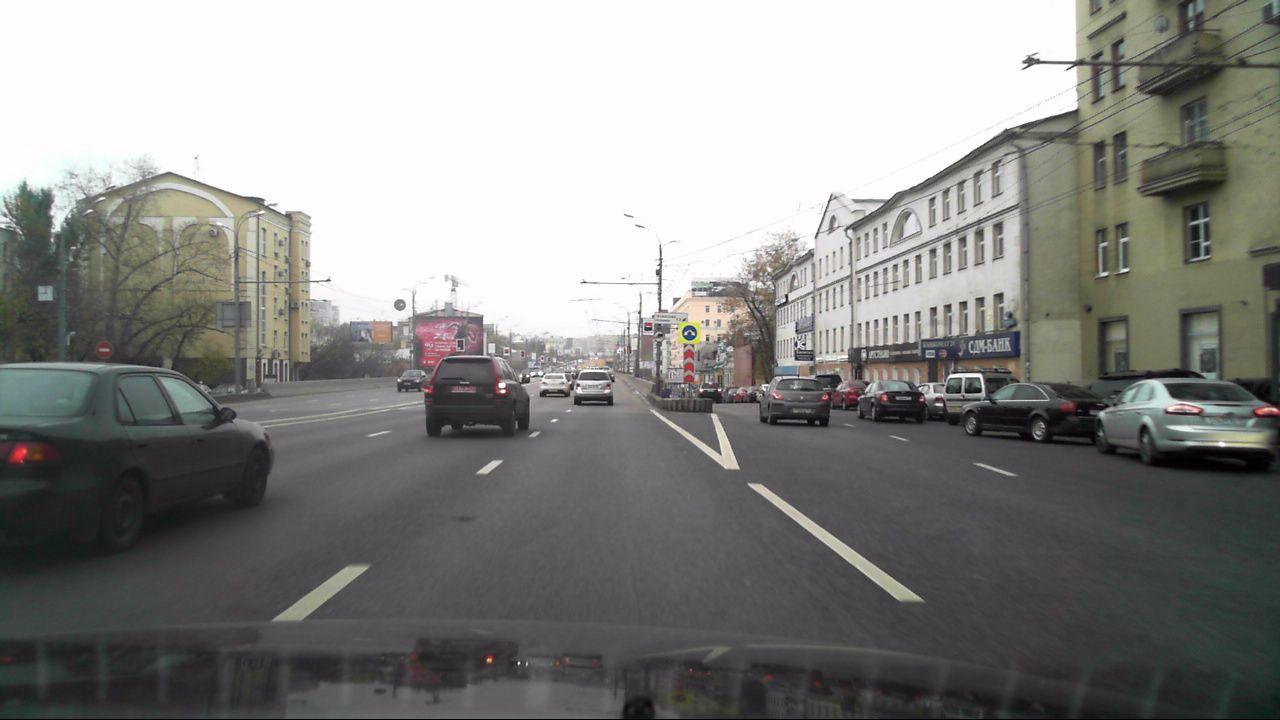road_sign: (678, 321, 701, 345), (683, 343, 695, 382)
